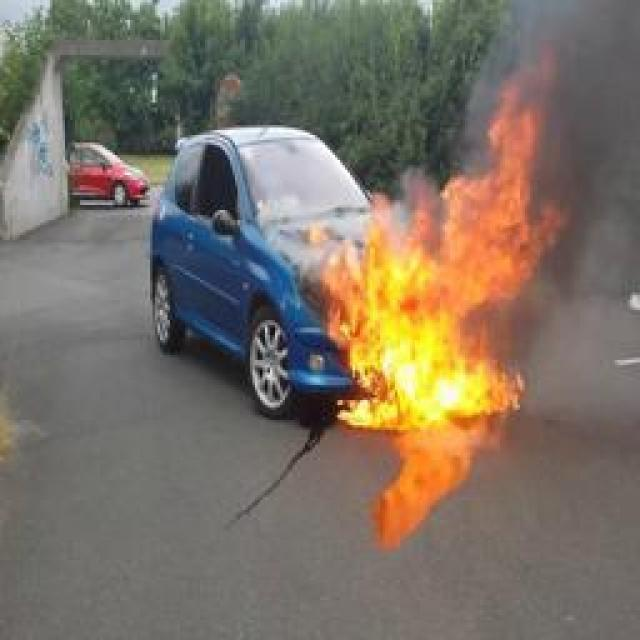Fire: (324, 45, 566, 420)
